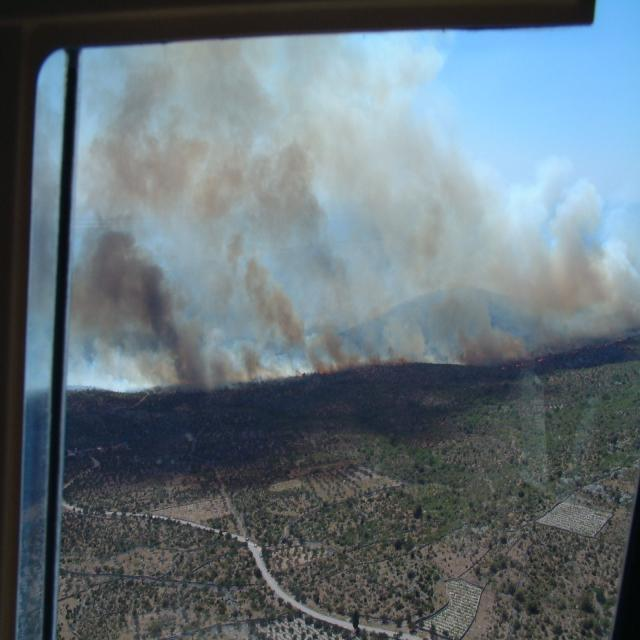Smoke: (27, 32, 640, 391)
